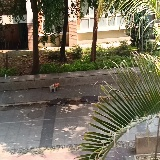fire: (54, 82, 59, 88)
